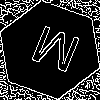M: (25, 25, 83, 82)
